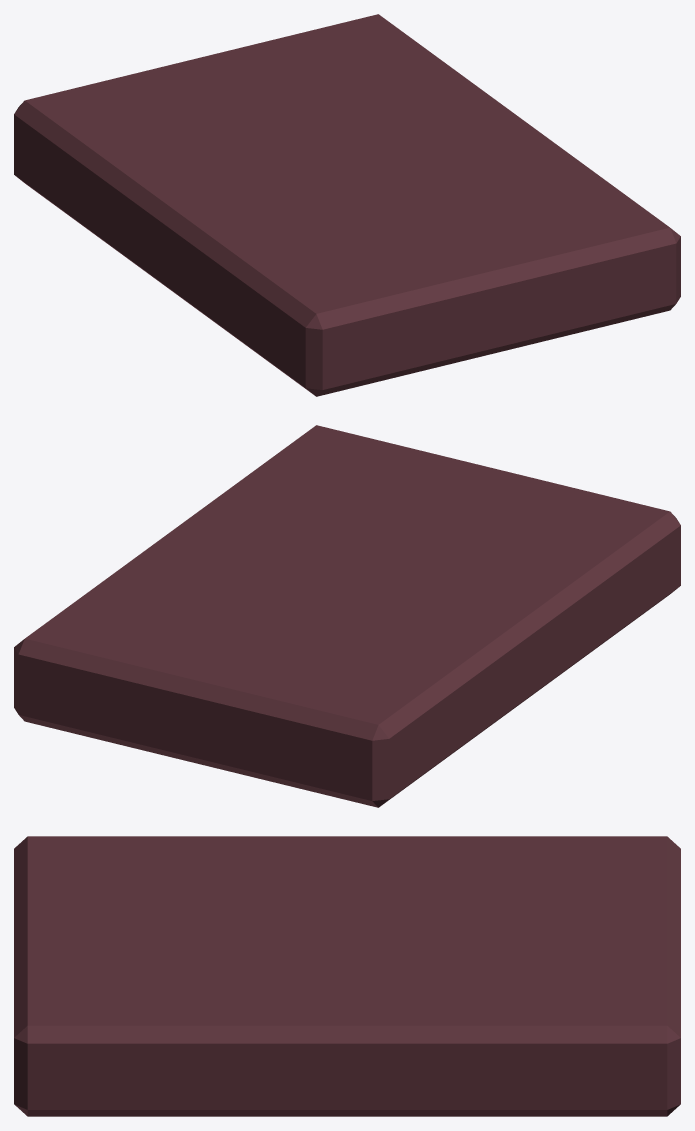
Rendered from mattress-large.fbx.
3 renders of one model, top to bottom at view 1: azimuth 30°, elevation 25°; view 2: azimuth 150°, elevation 25°; view 3: azimuth 270°, elevation 25°, orthographic. The views are drawn at different scales.
Visible parts, largest first — view 1: mattress-large; view 2: mattress-large; view 3: mattress-large.
Boxes of the visible parts, x1,y1,x2,y2 form: mattress-large: (14,14,680,396); mattress-large: (14,425,680,807); mattress-large: (14,836,680,1116).
Bounding box in the file's own units: 1.42 × 0.3009 × 2.
